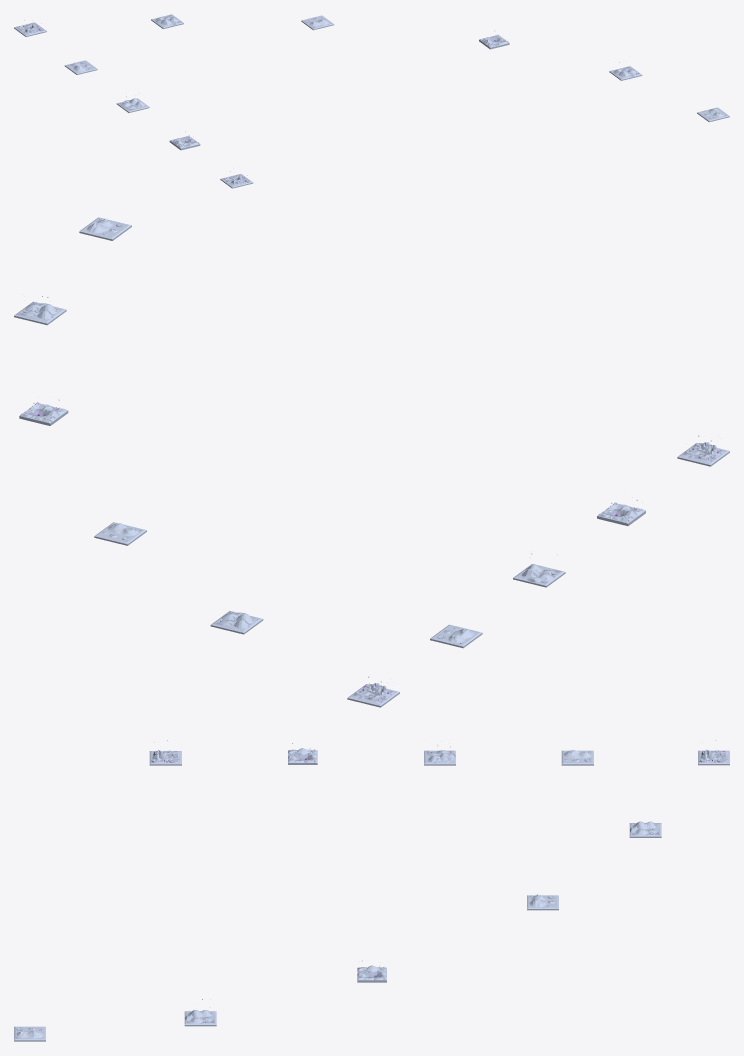
The model's file is Blank_Space_Part1_D7.fbx.
3 views of the same model, one above another, from view 1: azimuth 30°, elevation 25°; view 2: azimuth 150°, elevation 25°; view 3: azimuth 270°, elevation 25° (orthographic). The views are drawn at different scales.
Parts seen in each view (by area): view 1: Cube.367; view 2: Cube.355, Cube.352; view 3: Cube.357, Cube.390, Cube.364, Cube.389, Cube.352, Cube.367, Cube.388, Cube.355.
Part boxes in pixels (x1,y1,x2,y2): Cube.367: (116, 98, 149, 112); Cube.355: (677, 442, 729, 466); Cube.352: (347, 683, 399, 707); Cube.357: (184, 1010, 216, 1026); Cube.390: (561, 749, 593, 765); Cube.364: (629, 821, 661, 837); Cube.389: (527, 894, 558, 910); Cube.352: (698, 749, 729, 765); Cube.367: (424, 750, 455, 765); Cube.388: (14, 1026, 45, 1041); Cube.355: (149, 750, 181, 765).
Size of the model in its own units: 85523 by 2389 by 89406.
Materials: 5 (2 with a texture image).
